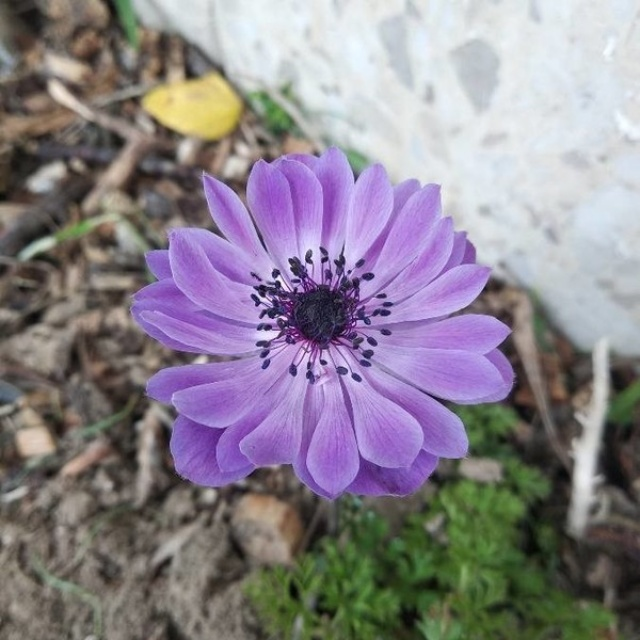obstacle: (119, 132, 516, 532)
